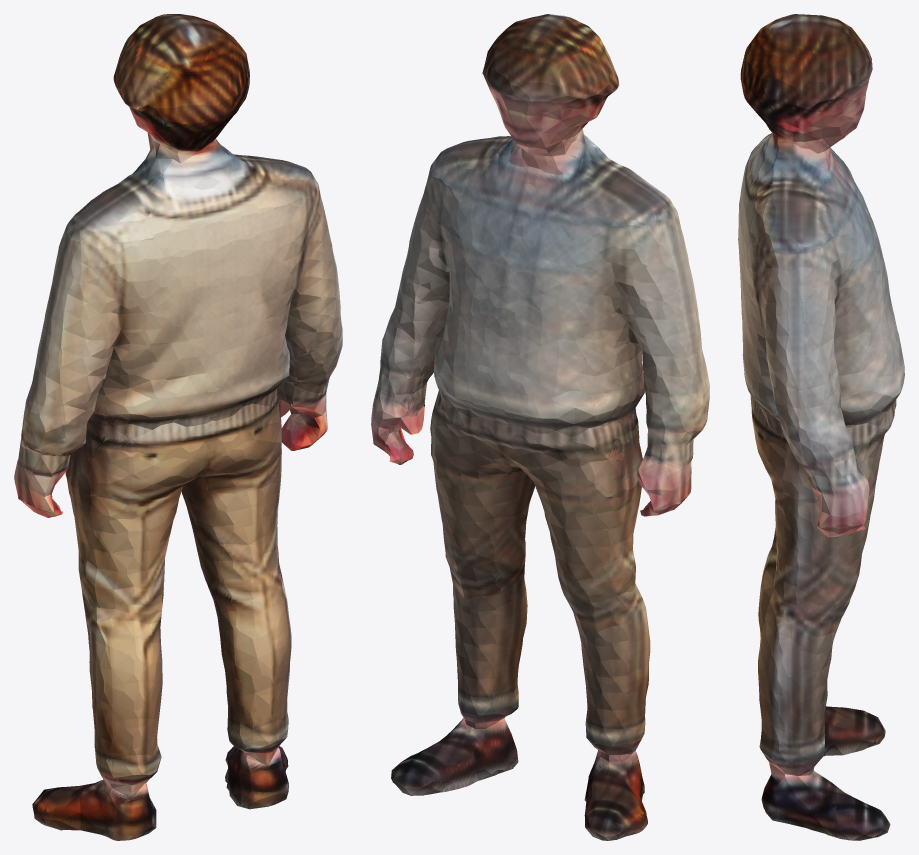
The model's file is openion_3d.glb.
The picture shows the model from 3 angles, left to right: view 1: azimuth 30°, elevation 25°; view 2: azimuth 150°, elevation 25°; view 3: azimuth 270°, elevation 25°; orthographic projection. The views are drawn at different scales.
Size of the model in its own units: 0.4039 by 0.964 by 0.1893.
1 material, 1 textured.
